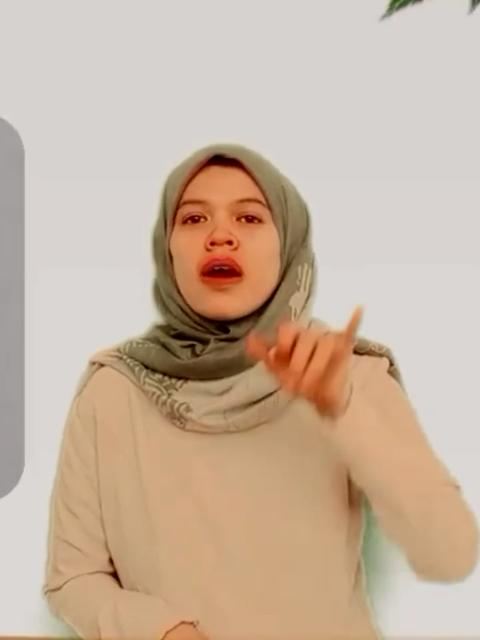Y: (246, 303, 368, 411)
